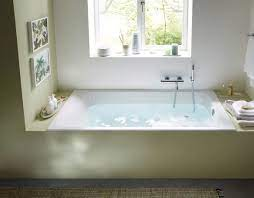bathub: (45, 81, 244, 184)
